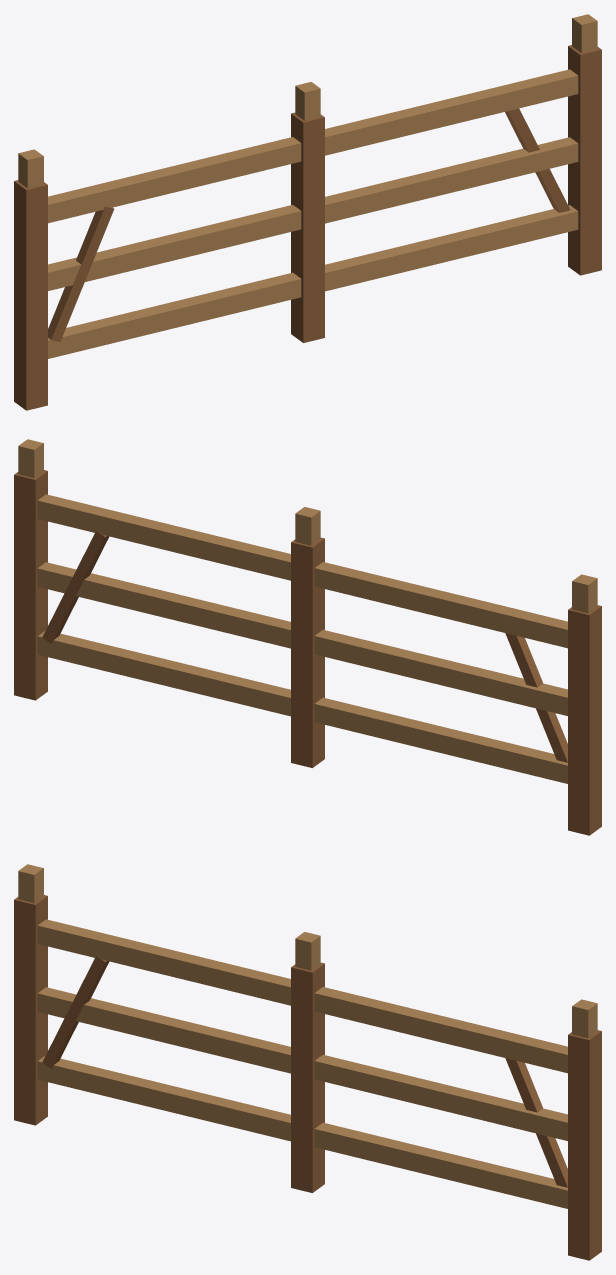
The model's file is cerca.glb.
3 views of the same model, one above another, from view 1: azimuth 30°, elevation 25°; view 2: azimuth 150°, elevation 25°; view 3: azimuth 330°, elevation 25° (orthographic).
Parts seen in each view (by area): view 1: Cerca | travessa horizontal.002, Cerca | travessa horizontal, Cerca | travessa horizontal.001, Cerca | mourão, Cerca | mourão.001, Cerca | mourão.002, Cerca | escora esquerda, Cerca | escora direita, Cerca | ponta do mourão, Cerca | ponta do mourão.001, Cerca | ponta do mourão.002; view 2: Cerca | travessa horizontal.002, Cerca | travessa horizontal, Cerca | travessa horizontal.001, Cerca | mourão, Cerca | mourão.001, Cerca | mourão.002, Cerca | escora esquerda, Cerca | escora direita, Cerca | ponta do mourão, Cerca | ponta do mourão.001, Cerca | ponta do mourão.002; view 3: Cerca | travessa horizontal.002, Cerca | travessa horizontal, Cerca | travessa horizontal.001, Cerca | mourão.002, Cerca | mourão.001, Cerca | mourão, Cerca | escora direita, Cerca | escora esquerda, Cerca | ponta do mourão.001, Cerca | ponta do mourão.002, Cerca | ponta do mourão.
Part boxes in pixels (x1,y1,x2,y2): Cerca | travessa horizontal.002: (48, 69, 578, 223); Cerca | travessa horizontal: (48, 205, 578, 358); Cerca | travessa horizontal.001: (48, 137, 578, 290); Cerca | mourão: (14, 180, 47, 410); Cerca | mourão.001: (291, 112, 324, 342); Cerca | mourão.002: (568, 45, 601, 275); Cerca | escora esquerda: (48, 206, 114, 341); Cerca | escora direita: (505, 108, 570, 212); Cerca | ponta do mourão: (18, 149, 43, 188); Cerca | ponta do mourão.001: (295, 82, 320, 120); Cerca | ponta do mourão.002: (572, 14, 597, 53); Cerca | travessa horizontal.002: (37, 494, 567, 648); Cerca | travessa horizontal: (37, 630, 567, 783); Cerca | travessa horizontal.001: (37, 562, 567, 715); Cerca | mourão: (568, 605, 601, 835); Cerca | mourão.001: (291, 537, 324, 767); Cerca | mourão.002: (14, 470, 47, 700); Cerca | escora esquerda: (505, 633, 567, 762); Cerca | escora direita: (42, 530, 109, 643); Cerca | ponta do mourão: (572, 574, 597, 613); Cerca | ponta do mourão.001: (295, 507, 320, 545); Cerca | ponta do mourão.002: (18, 439, 43, 478); Cerca | travessa horizontal.002: (37, 919, 567, 1073); Cerca | travessa horizontal: (37, 1055, 567, 1208); Cerca | travessa horizontal.001: (37, 987, 567, 1140); Cerca | mourão.002: (568, 1030, 601, 1260); Cerca | mourão.001: (291, 962, 324, 1192); Cerca | mourão: (14, 895, 47, 1125); Cerca | escora direita: (505, 1058, 567, 1187); Cerca | escora esquerda: (42, 955, 109, 1068); Cerca | ponta do mourão.001: (295, 932, 320, 970); Cerca | ponta do mourão.002: (572, 999, 597, 1038); Cerca | ponta do mourão: (18, 864, 43, 903).
Bounding box in the file's own units: 4.26 × 1.76 × 0.16.
